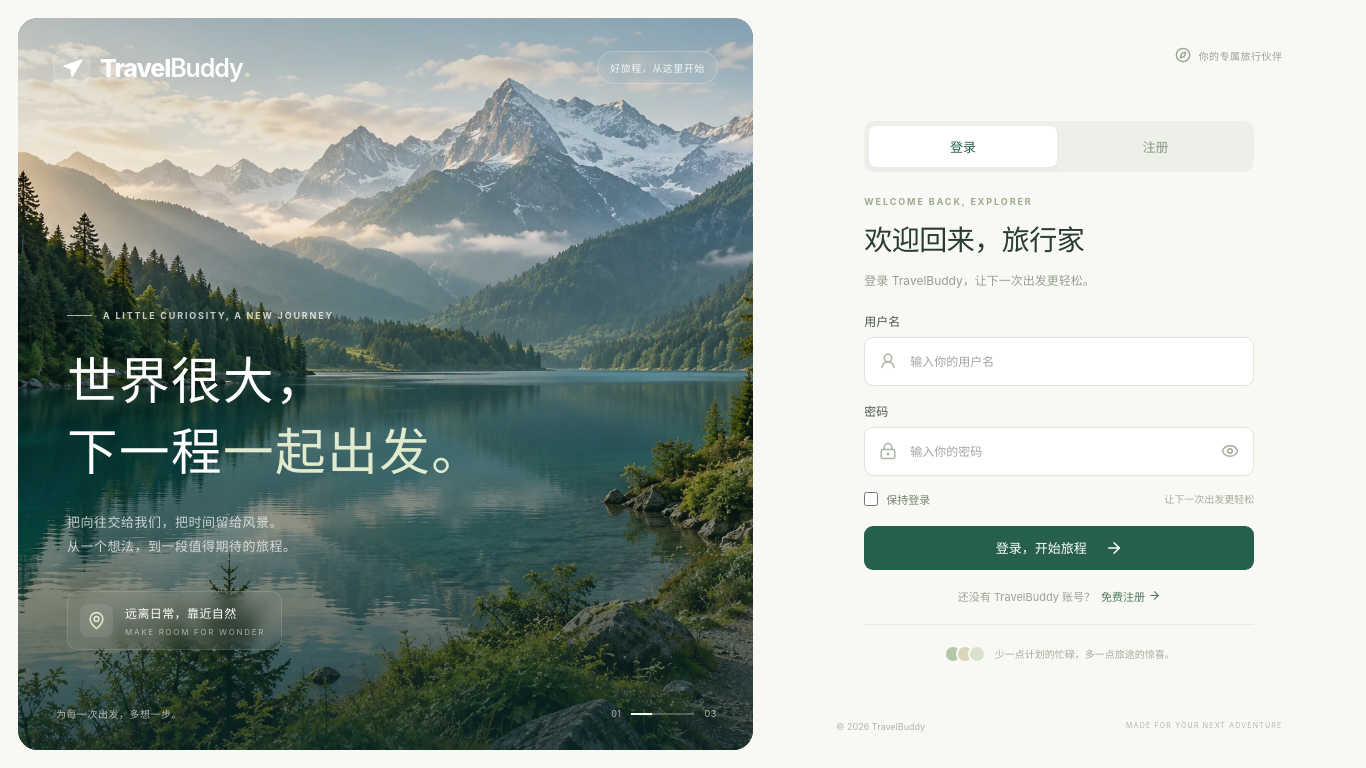
登录与注册 › 空表单不会发送登录请求
Step 1. Click the button "登录，开始旅程" → (1059, 548), box [864,526,1254,570]
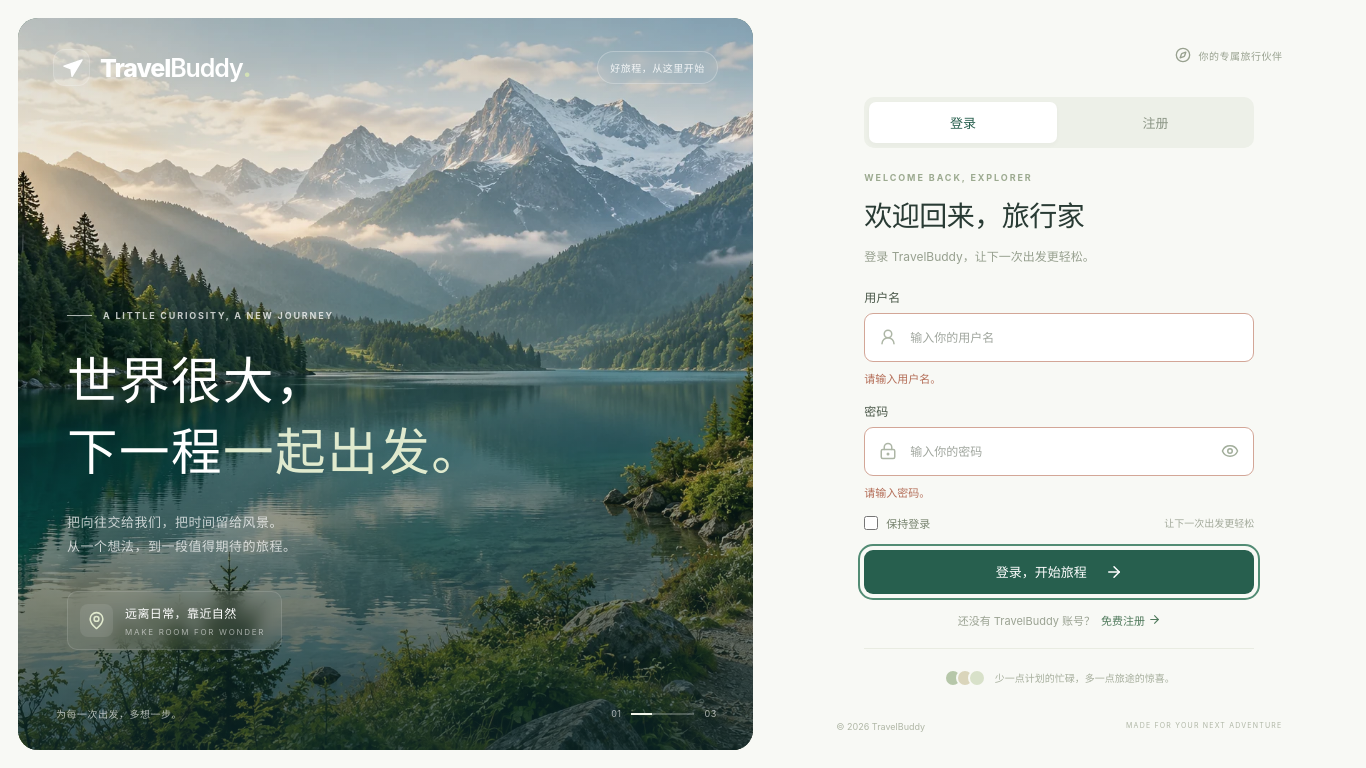
Expected: the text "请输入用户名。" is shown, [864,372,941,386]
Expected: the text "请输入密码。" is shown, [864,486,930,500]
